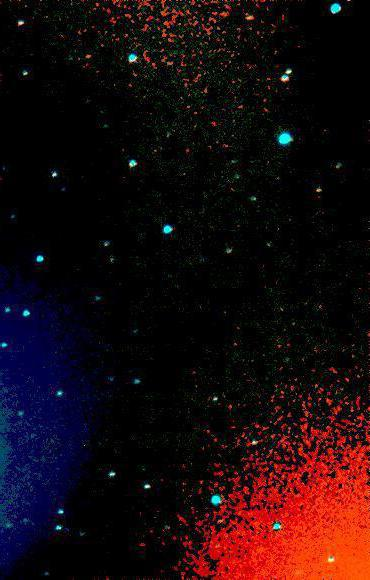star: (40, 425, 70, 455)
